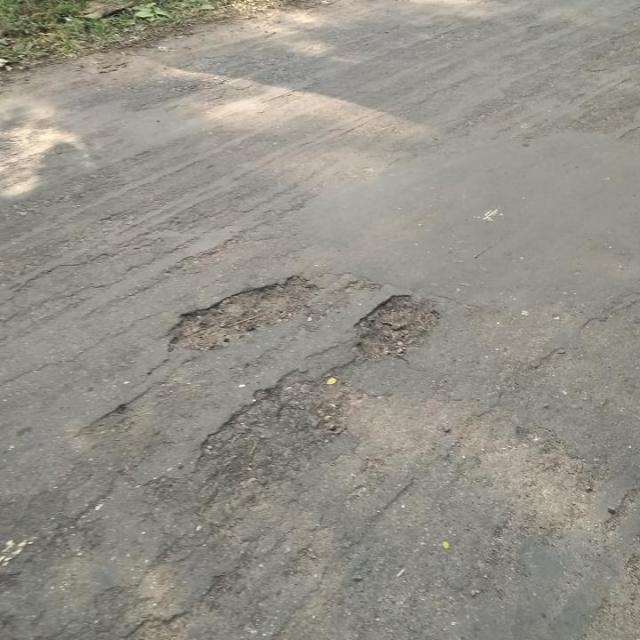pothole: (192, 370, 356, 490), (164, 271, 324, 353), (352, 292, 444, 364)
